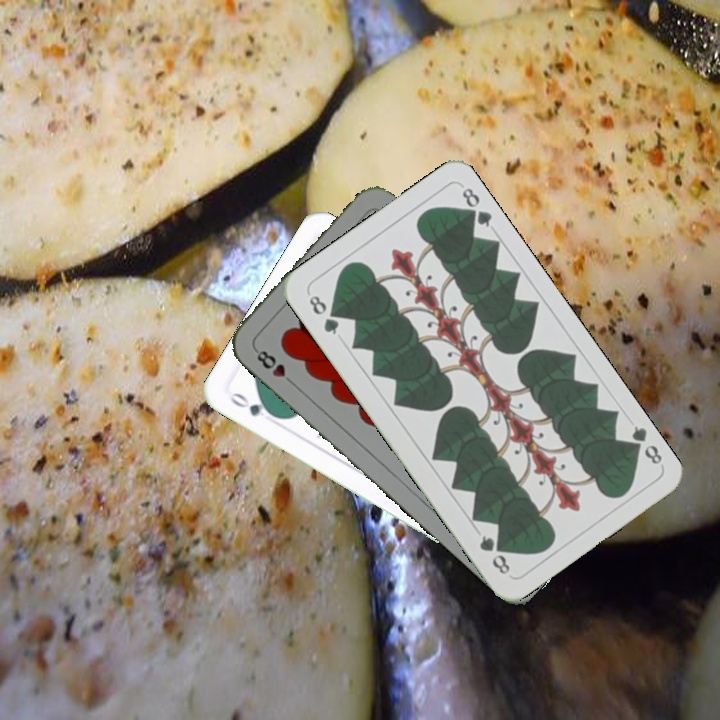G8: (623, 421, 666, 468), (304, 289, 342, 338)
GO: (226, 387, 281, 424)
H8: (250, 344, 299, 389)
